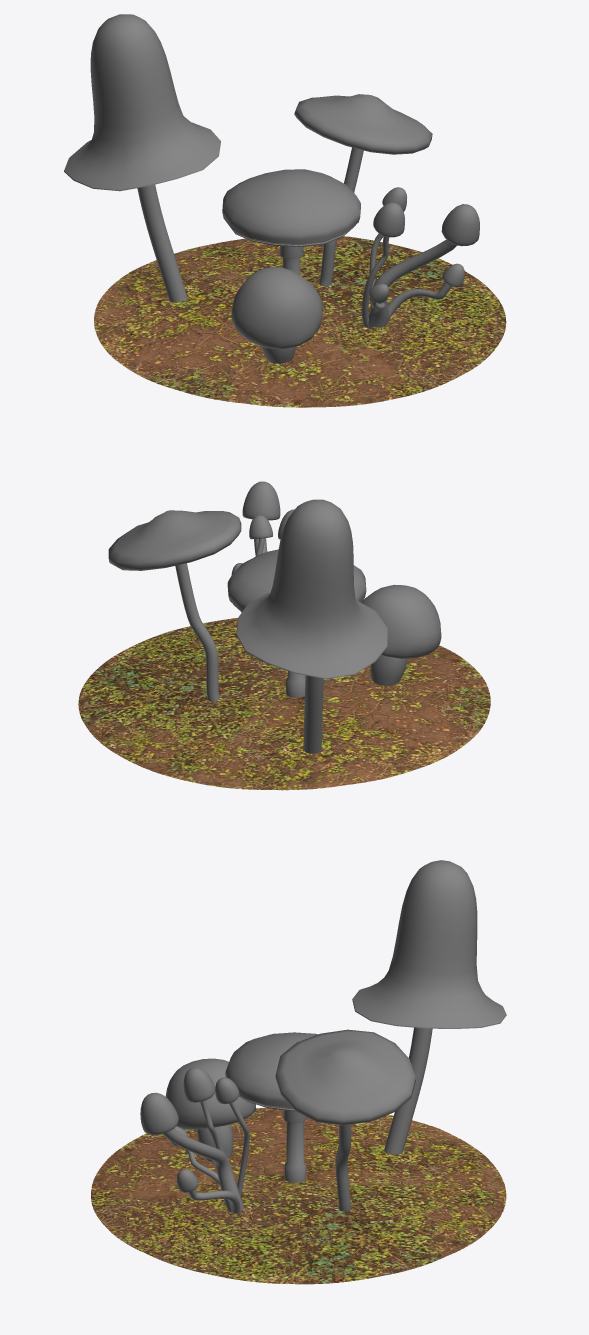
The model's file is Mushrooms.fbx.
3 views of the same model, one above another, from view 1: azimuth 30°, elevation 25°; view 2: azimuth 150°, elevation 25°; view 3: azimuth 270°, elevation 25° (orthographic).
Parts seen in each view (by area): view 1: Floor, Mushroom_05, Mushroom_01, Mushroom_02, Mushroom_03, Mushroom_04; view 2: Floor, Mushroom_05, Mushroom_02, Mushroom_04, Mushroom_01, Mushroom_03; view 3: Floor, Mushroom_05, Mushroom_02, Mushroom_03, Mushroom_01, Mushroom_04.
Boxes of the visible parts, box(x1,y1,x2,y2) form: Floor: box(94, 236, 506, 407); Mushroom_05: box(64, 14, 220, 302); Mushroom_01: box(222, 169, 360, 274); Mushroom_02: box(294, 94, 432, 286); Mushroom_03: box(361, 187, 479, 327); Mushroom_04: box(231, 267, 322, 363); Floor: box(78, 618, 490, 790); Mushroom_05: box(236, 499, 387, 753); Mushroom_02: box(108, 510, 241, 701); Mushroom_04: box(361, 584, 441, 685); Mushroom_01: box(227, 549, 366, 697); Mushroom_03: box(231, 481, 294, 662); Floor: box(91, 1107, 506, 1284); Mushroom_05: box(352, 860, 506, 1154); Mushroom_02: box(275, 1029, 415, 1211); Mushroom_03: box(140, 1067, 249, 1213); Mushroom_01: box(225, 1032, 317, 1182); Mushroom_04: box(165, 1058, 255, 1161).
Size of the model in its own units: 280 by 161 by 280.
Materials: 2 (1 with a texture image).
